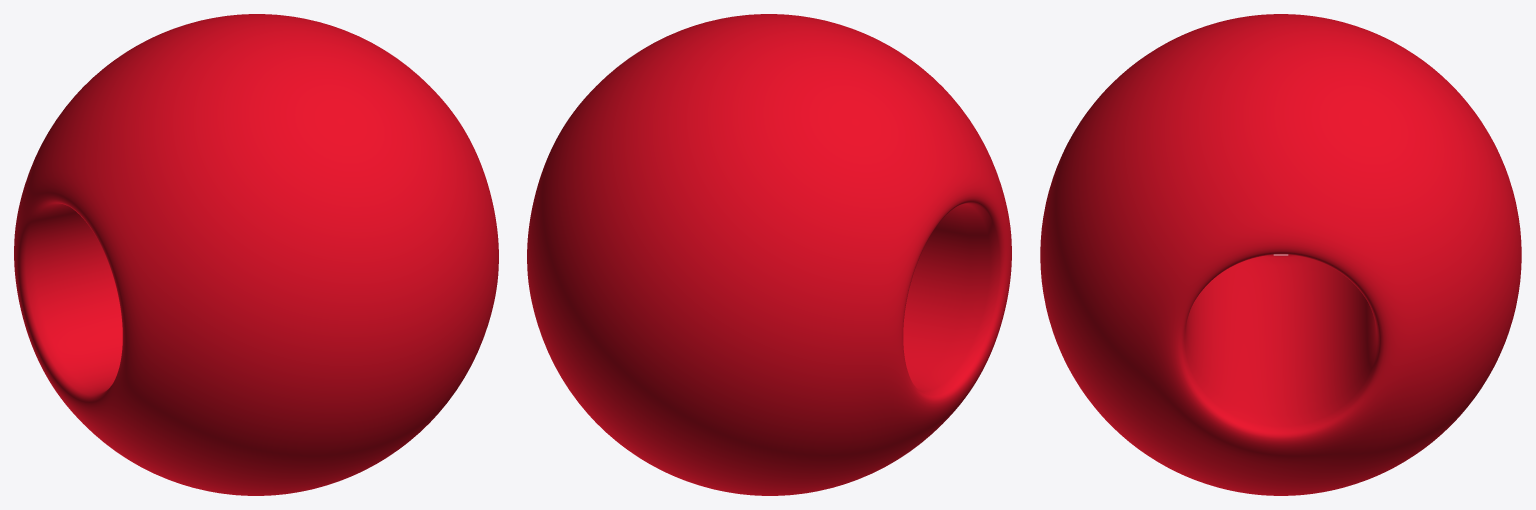
3 renders of one model, left to right at view 1: azimuth 30°, elevation 25°; view 2: azimuth 150°, elevation 25°; view 3: azimuth 270°, elevation 25°, orthographic.
Parts seen in each view (by area): view 1: red; view 2: red; view 3: red.
Boxes of the visible parts, left/top/right/bottom form: red: left=14, top=14, right=498, bottom=495; red: left=527, top=14, right=1011, bottom=495; red: left=1040, top=14, right=1521, bottom=495.
Bounding box in the file's own units: 1.75 × 1.97 × 1.97.
